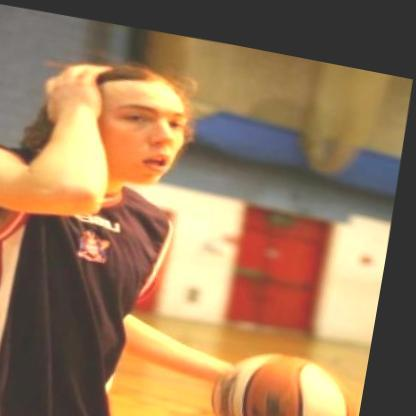basketball: (214, 328, 377, 416)
